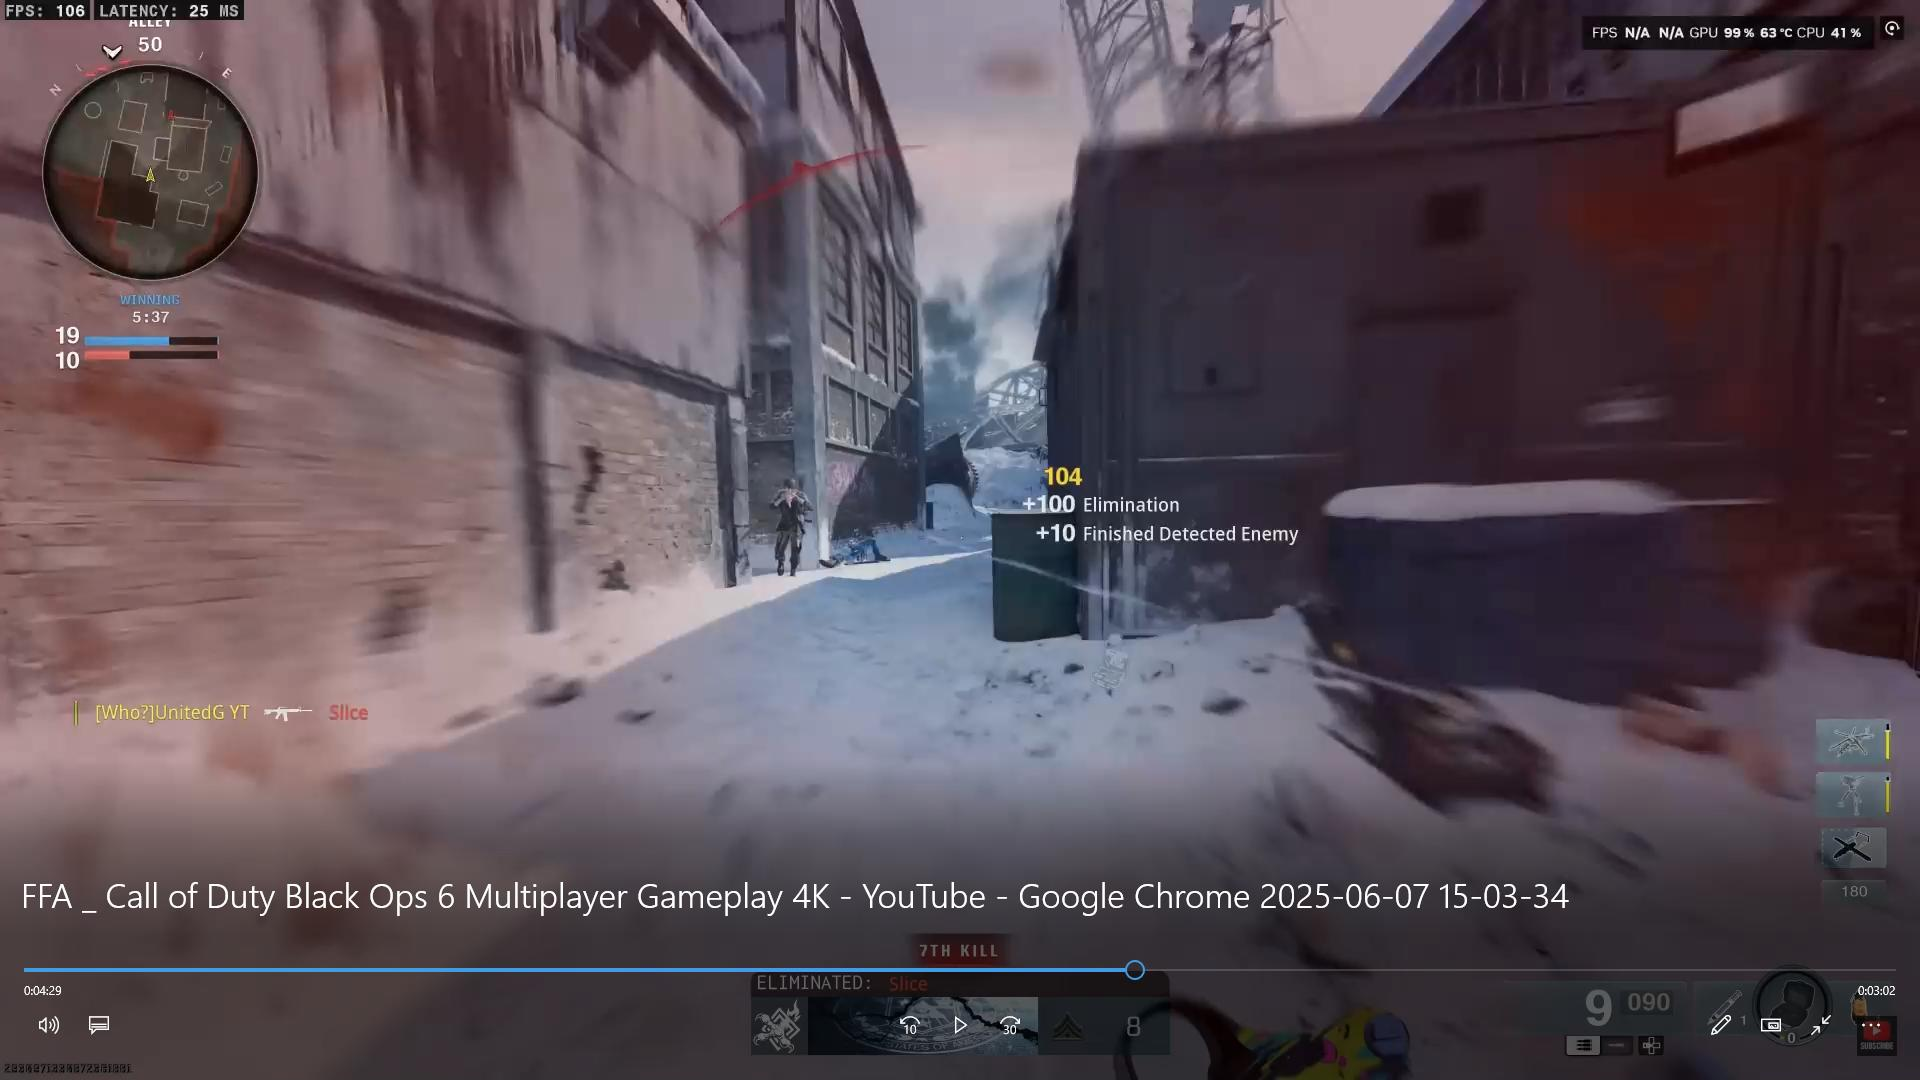Enemy: (764, 473, 812, 579)
